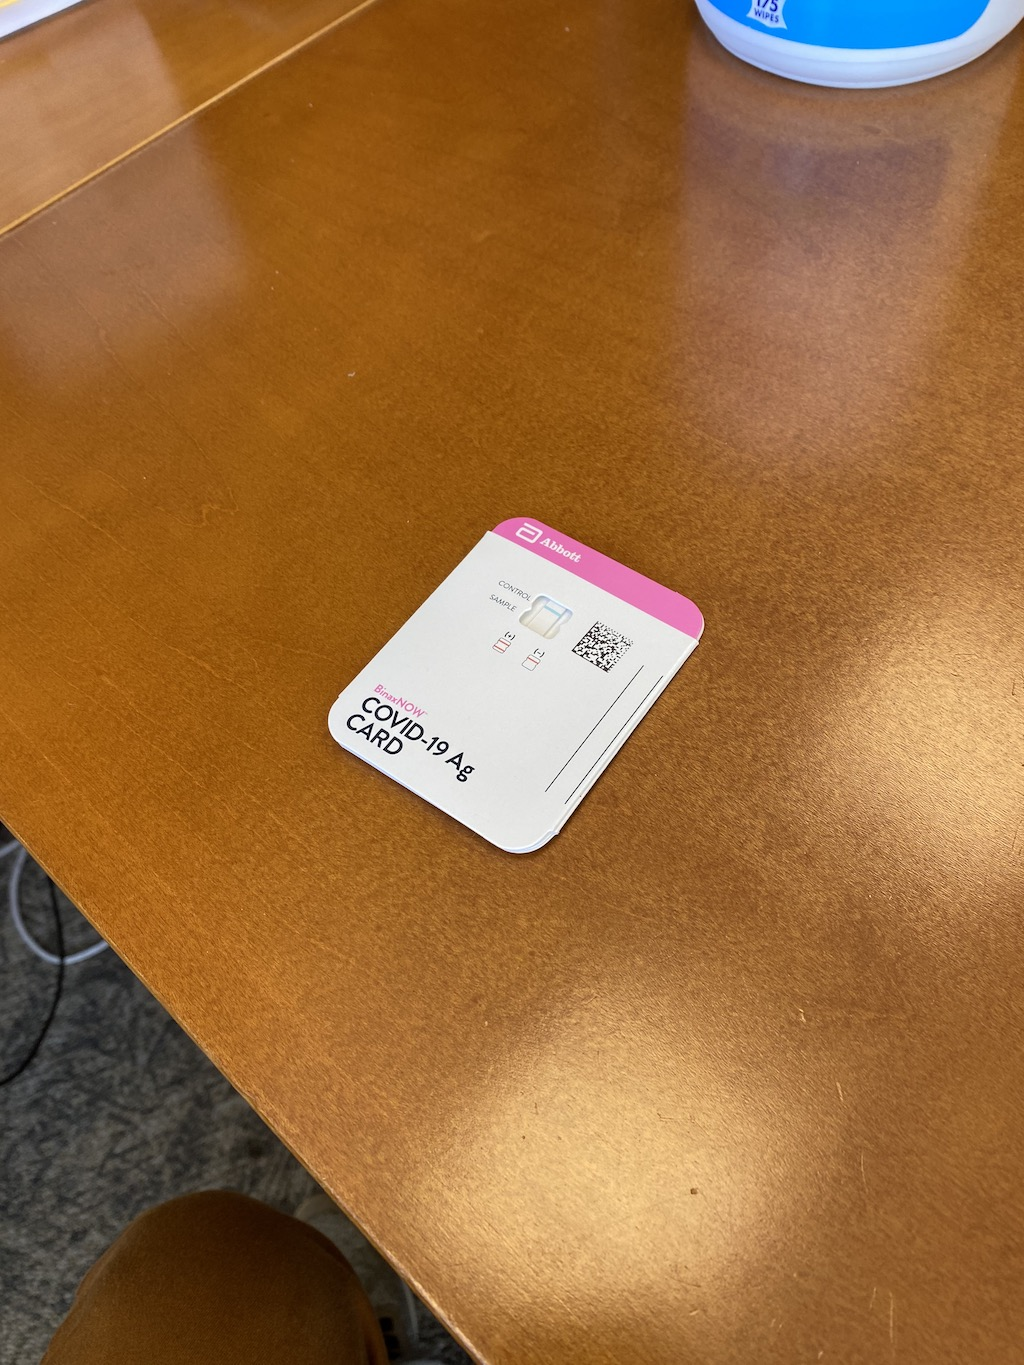binax-negative: (315, 507, 715, 861)
